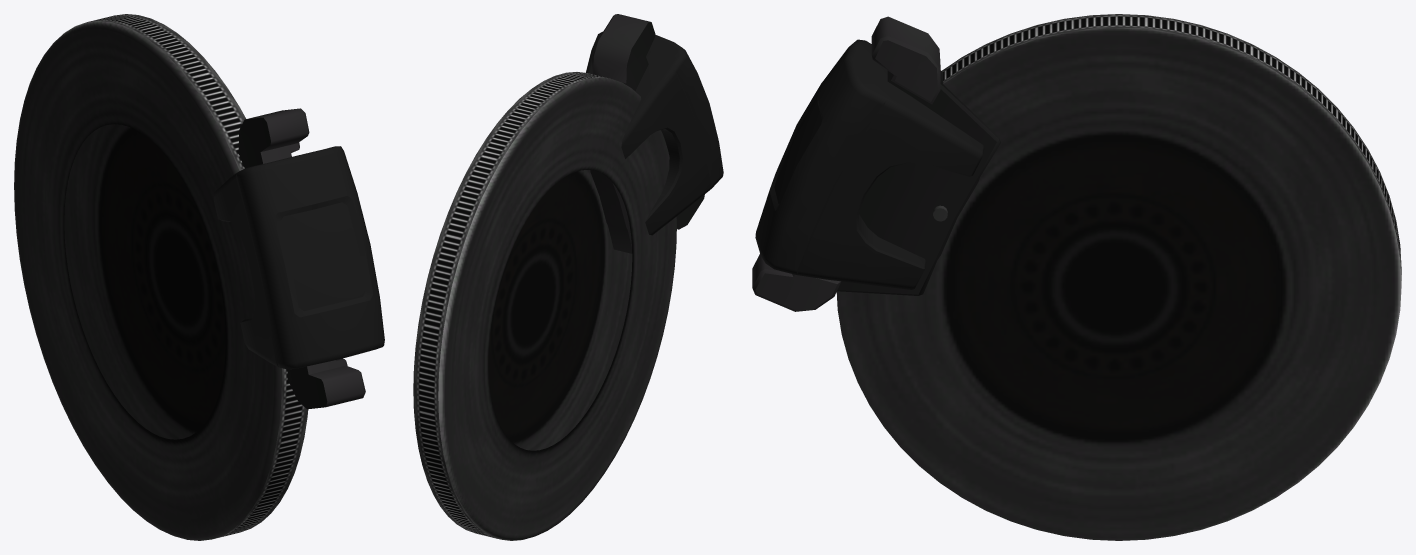
Rendered from rearbrakes_oem.glb.
The picture shows the model from 3 angles, left to right: view 1: azimuth 30°, elevation 25°; view 2: azimuth 150°, elevation 25°; view 3: azimuth 270°, elevation 25°; orthographic projection. The views are drawn at different scales.
Parts seen in each view (by area): view 1: Disk, Caliper, Pads; view 2: Disk, Caliper, Pads; view 3: Disk, Caliper, Pads.
Part boxes in pixels (x1=…): Disk: x1=14, y1=14, x2=308, y2=540; Caliper: x1=213, y1=146, x2=384, y2=369; Pads: x1=237, y1=108, x2=365, y2=409; Disk: x1=413, y1=72, x2=676, y2=540; Caliper: x1=586, y1=31, x2=723, y2=235; Pads: x1=590, y1=14, x2=704, y2=253; Disk: x1=836, y1=14, x2=1401, y2=540; Caliper: x1=755, y1=39, x2=984, y2=289; Pads: x1=752, y1=16, x2=1000, y2=311.
Size of the model in its own units: 0.0554 by 0.2484 by 0.2851.
3 materials, 2 textured.
